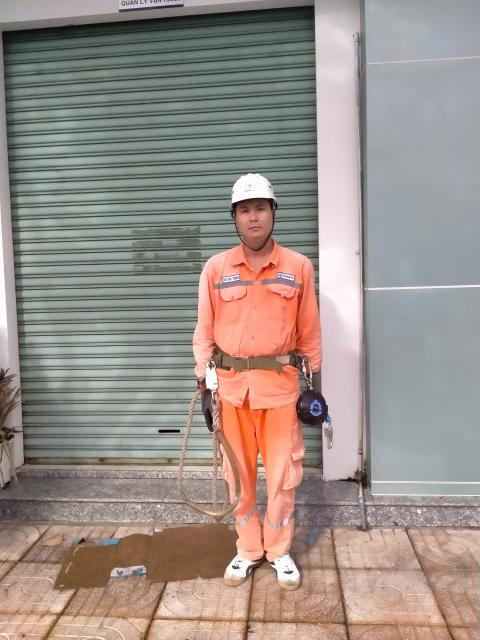gloves: (180, 383, 226, 436)
harness: (187, 332, 311, 392)
helmet: (212, 168, 285, 212)
shoes: (214, 527, 268, 583), (268, 545, 313, 582)
